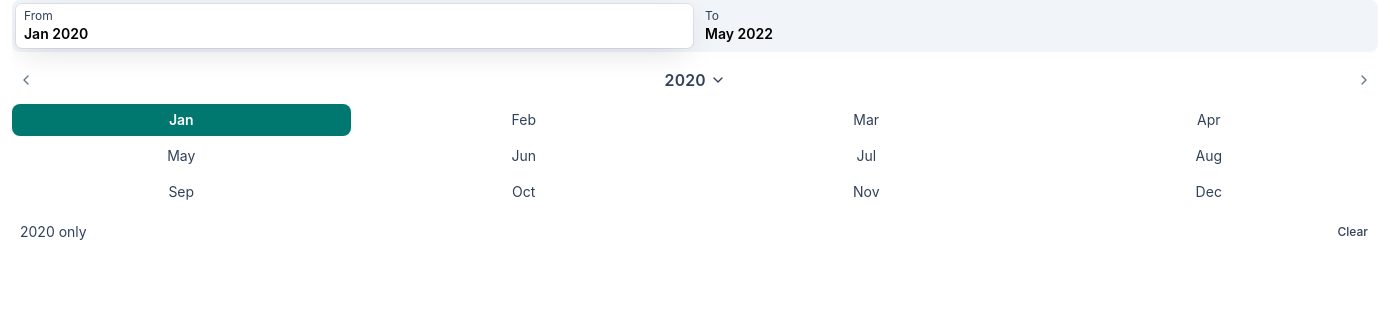
Test: DateRangeForm › "Present" replaces the end date
Click the tab "To May 2022".
click(739, 34)  # box [697,4,1374,48]
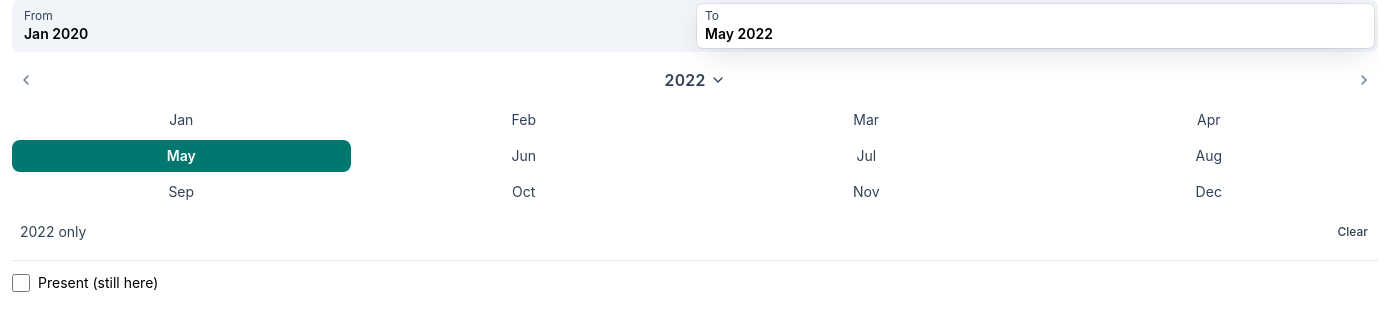
Click the checkbox labelled "Present (still here)".
click(21, 283)  # box [12,274,30,292]
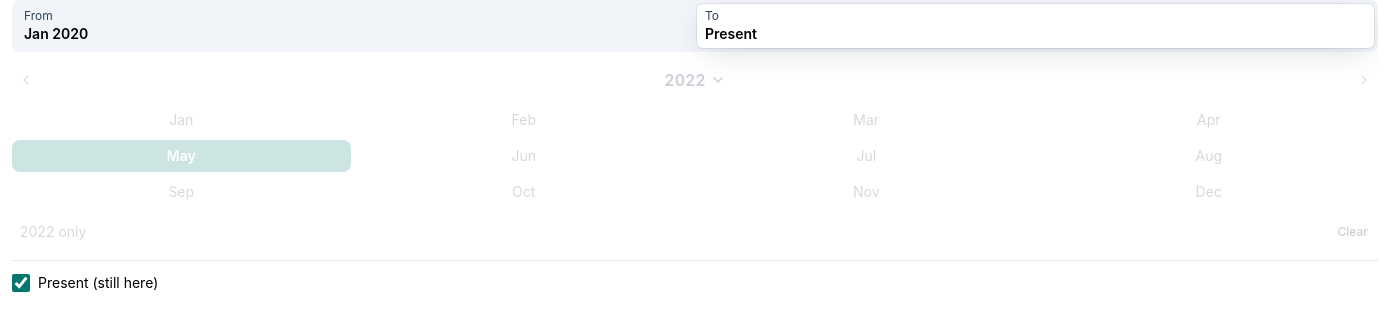
Now the tab "To Present" is shown, box [697,4,1374,48]
Now the element named "May 2022" is disabled, box [12,64,1378,248]
